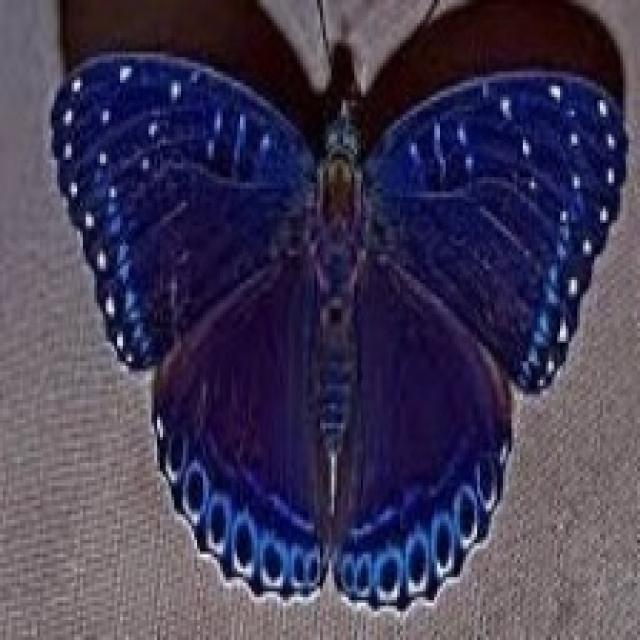butterfly: (45, 0, 628, 611)
